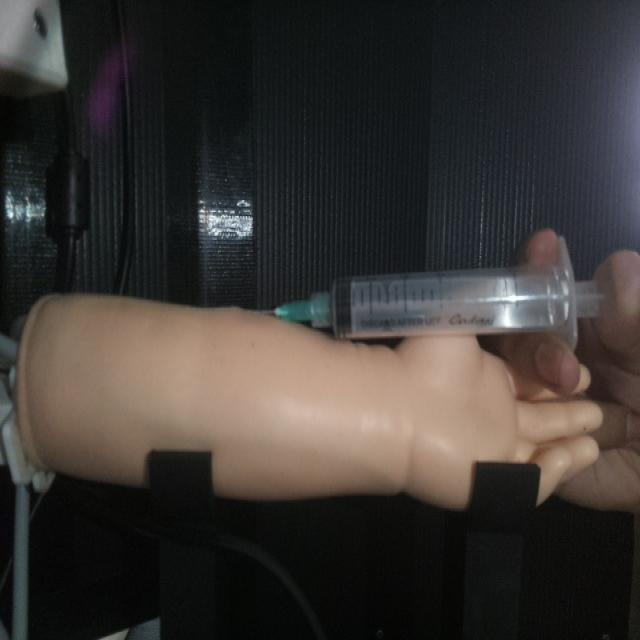Outside: (242, 231, 618, 357)
